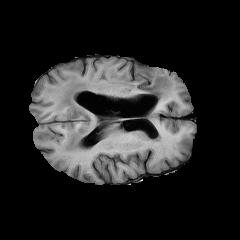glioma: (46, 70, 171, 152)
